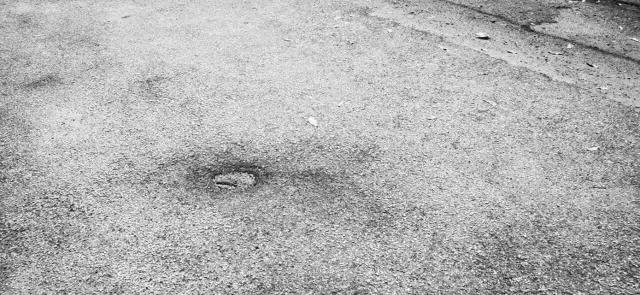Pothole: (210, 168, 258, 190)
